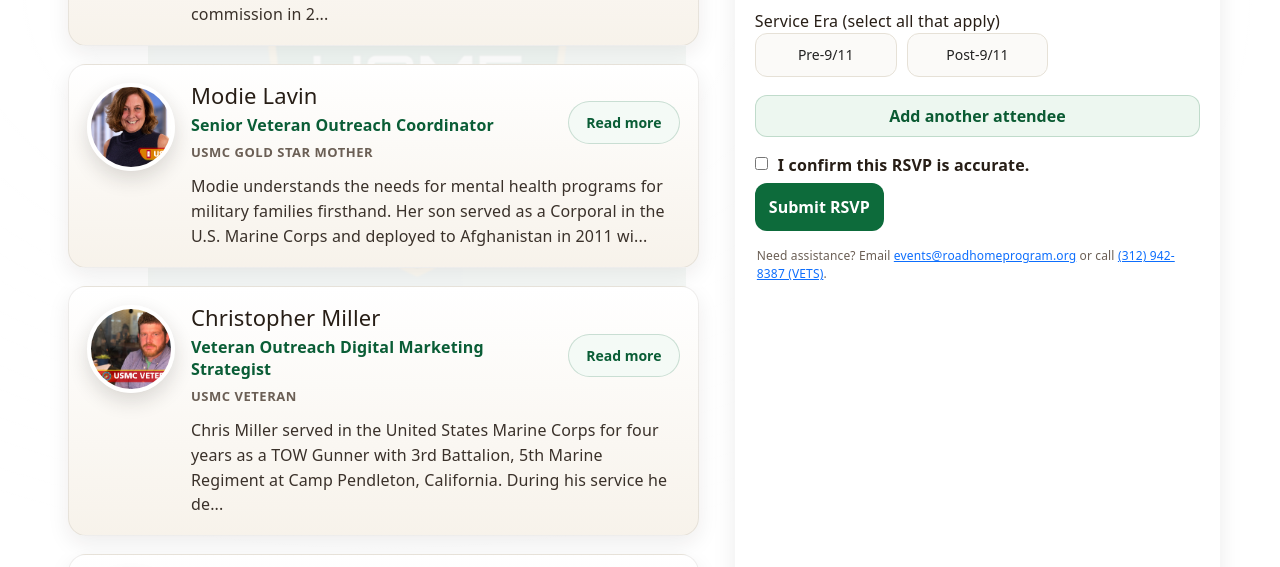
Test: San Diego McP's RSVP flow › blocks submission and shows validation message when required fields are missing
The width and height of the screenshot is (1280, 567).
(page scrolled)
Click the button "Submit RSVP": (819, 207) [755,183,884,231]
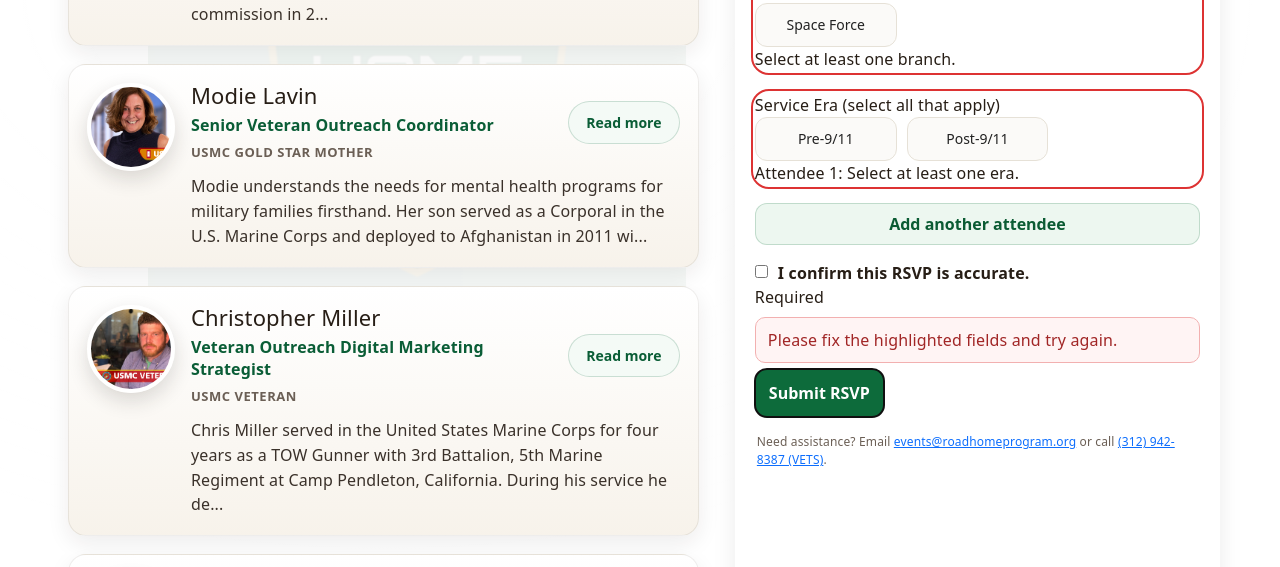
Expected: the text "Please fix the highlighted fields and try again." is shown, [755,317,1200,363]
